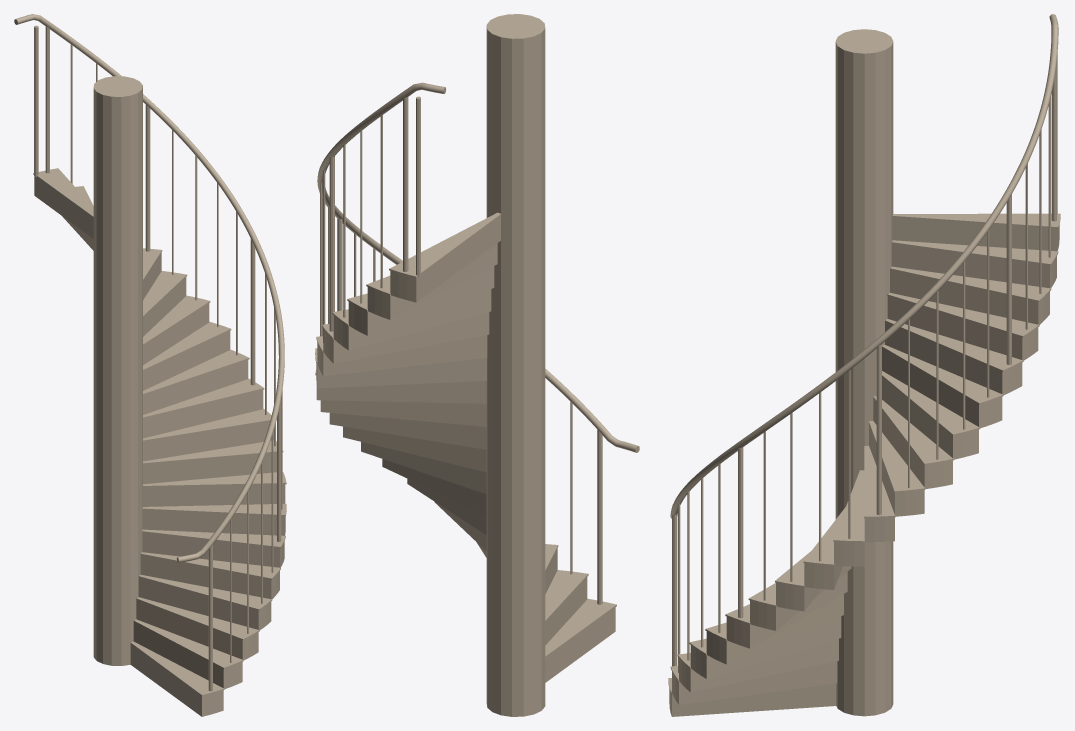
The model's file is 3dcodebench_SpiralStaircase_seed0.glb.
The picture shows the model from 3 angles, left to right: view 1: azimuth 30°, elevation 25°; view 2: azimuth 150°, elevation 25°; view 3: azimuth 270°, elevation 25°; orthographic projection. The views are drawn at different scales.
Parts seen in each view (by area): view 1: object; view 2: object; view 3: object.
Part boxes in pixels (box(x1,y1,x2,y2)): object: box(14, 14, 286, 716); object: box(315, 14, 639, 716); object: box(668, 14, 1060, 716).
Size of the model in its own units: 1.33 by 4.43 by 2.32.
